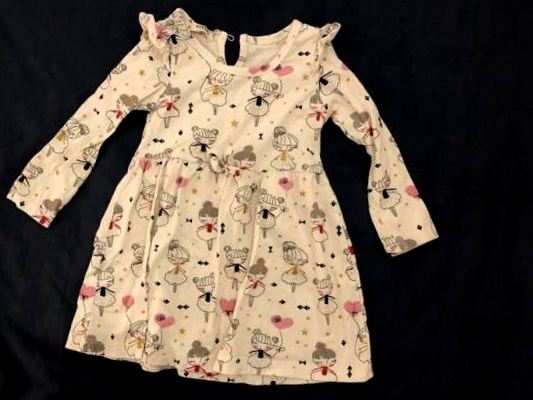Dress: (0, 0, 452, 400), (22, 0, 503, 8), (0, 392, 399, 400)
